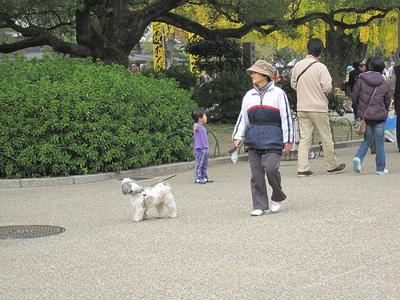person: (230, 60, 298, 217)
